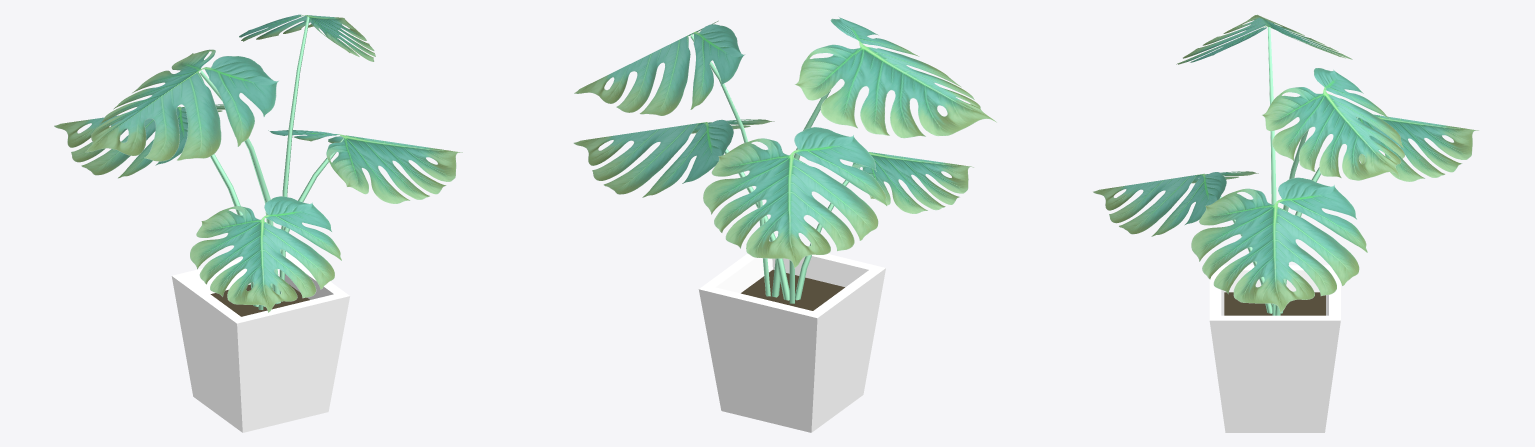
File: PlantMonstera.glb
3 renders of one model, left to right at view 1: azimuth 30°, elevation 25°; view 2: azimuth 150°, elevation 25°; view 3: azimuth 270°, elevation 25°, orthographic. The views are drawn at different scales.
Visible parts, largest first — view 1: PlantMonstera; view 2: PlantMonstera; view 3: PlantMonstera.
Part boxes in pixels (bbox=[...]): PlantMonstera: bbox=[54, 14, 462, 432]; PlantMonstera: bbox=[573, 16, 996, 432]; PlantMonstera: bbox=[1093, 14, 1478, 432].
Size of what is drawn, in the model's own units: 1.25 by 1.12 by 1.26.
2 materials, 2 textured.
